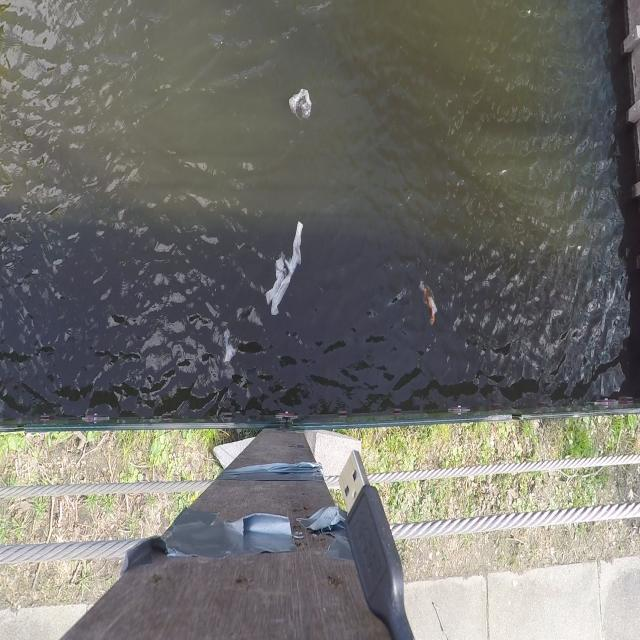Sac plastique: (258, 217, 309, 321), (218, 321, 238, 368), (288, 85, 314, 120)
